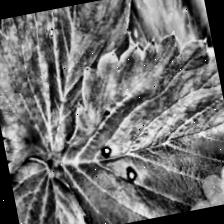Leaf Spot: (35, 25, 224, 224), (0, 0, 163, 175), (0, 18, 38, 185), (8, 150, 93, 224)
